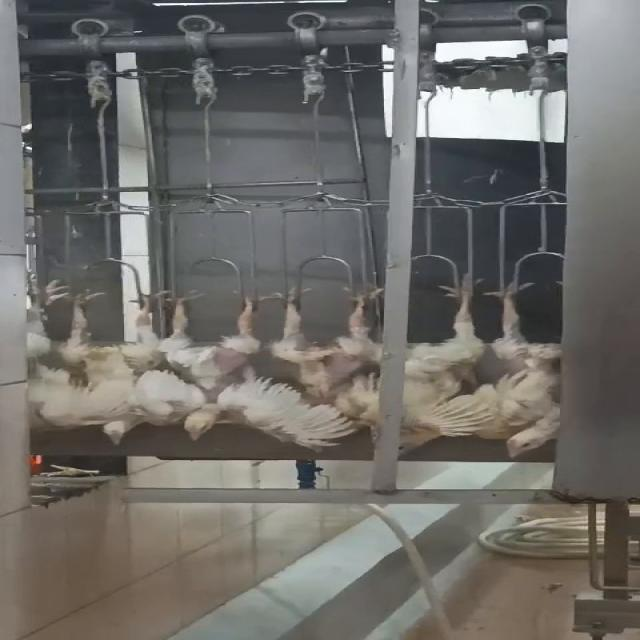chicken: (149, 288, 336, 449), (18, 292, 170, 444), (473, 272, 576, 462), (393, 268, 491, 456), (268, 276, 384, 429)
